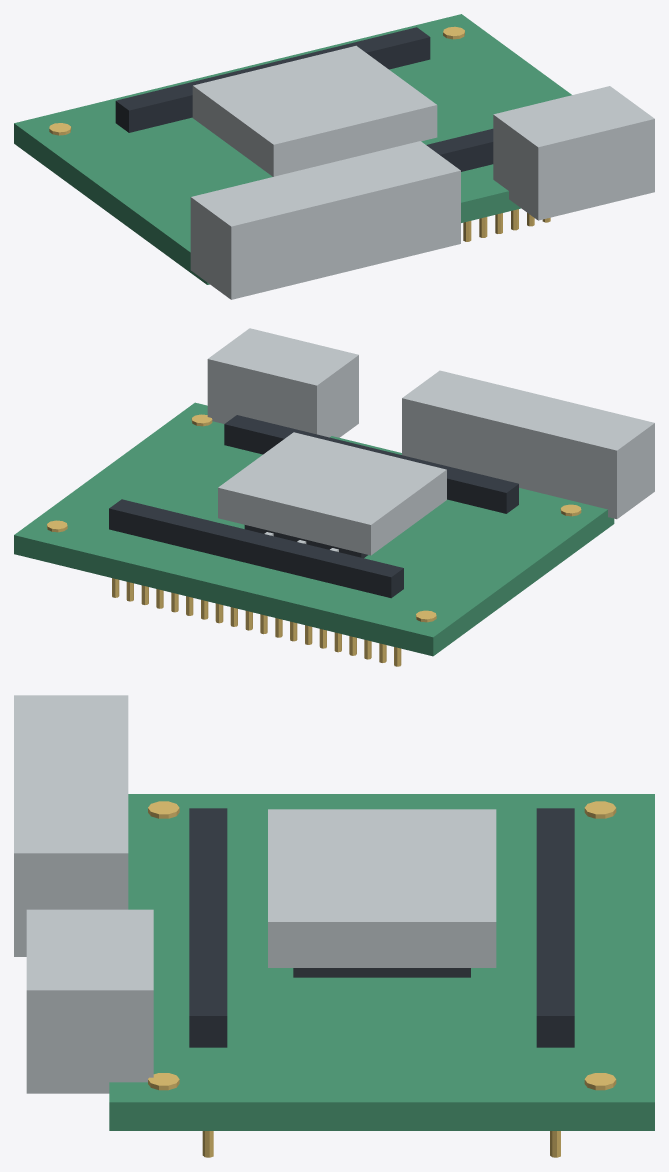
File: product-26.glb
3 renders of one model, top to bottom at view 1: azimuth 30°, elevation 25°; view 2: azimuth 150°, elevation 25°; view 3: azimuth 270°, elevation 25°, orthographic. The views are drawn at different scales.
Visible parts, largest first — view 1: product-26; view 2: product-26; view 3: product-26.
Boxes of the visible parts, x1,y1,x2,y2 form: product-26: (14,14,654,299); product-26: (14,328,654,666); product-26: (14,695,654,1157).
Size of the model in its own units: 1.18 by 0.34 by 1.01.
